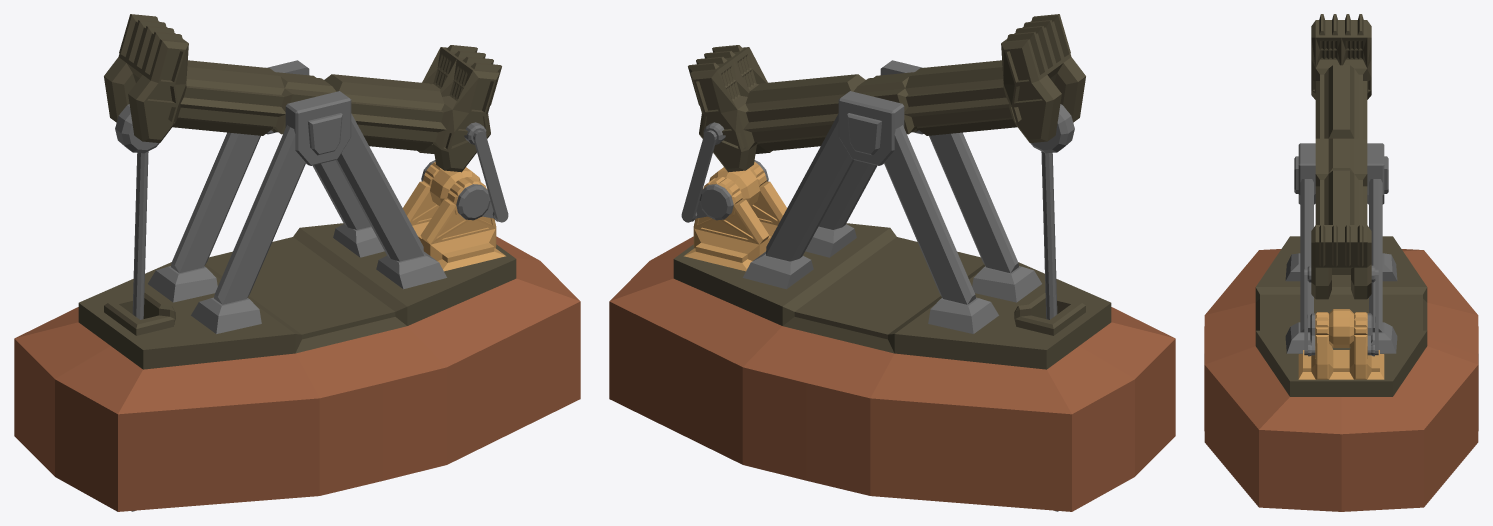
3 views of the same model, side by side, from view 1: azimuth 30°, elevation 25°; view 2: azimuth 150°, elevation 25°; view 3: azimuth 270°, elevation 25° (orthographic). The views are drawn at different scales.
Visible parts, largest first — view 1: OilDerrick_Beam; view 2: OilDerrick_Beam; view 3: OilDerrick_Beam.
Boxes of the visible parts, box(x1,y1,x2,y2) form: OilDerrick_Beam: box(14, 14, 580, 511); OilDerrick_Beam: box(609, 14, 1175, 511); OilDerrick_Beam: box(1204, 14, 1478, 511).
Bounding box in the file's own units: 260 × 249 × 160.
